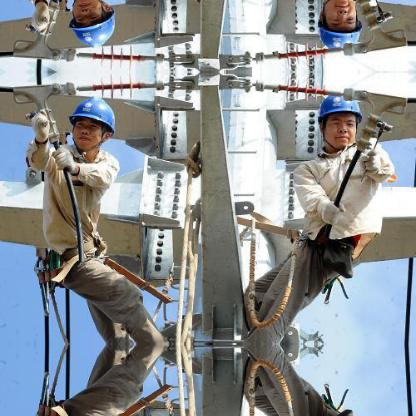Safety Helmet: (310, 85, 370, 156), (65, 89, 125, 158), (311, 1, 369, 58), (66, 1, 121, 50)
